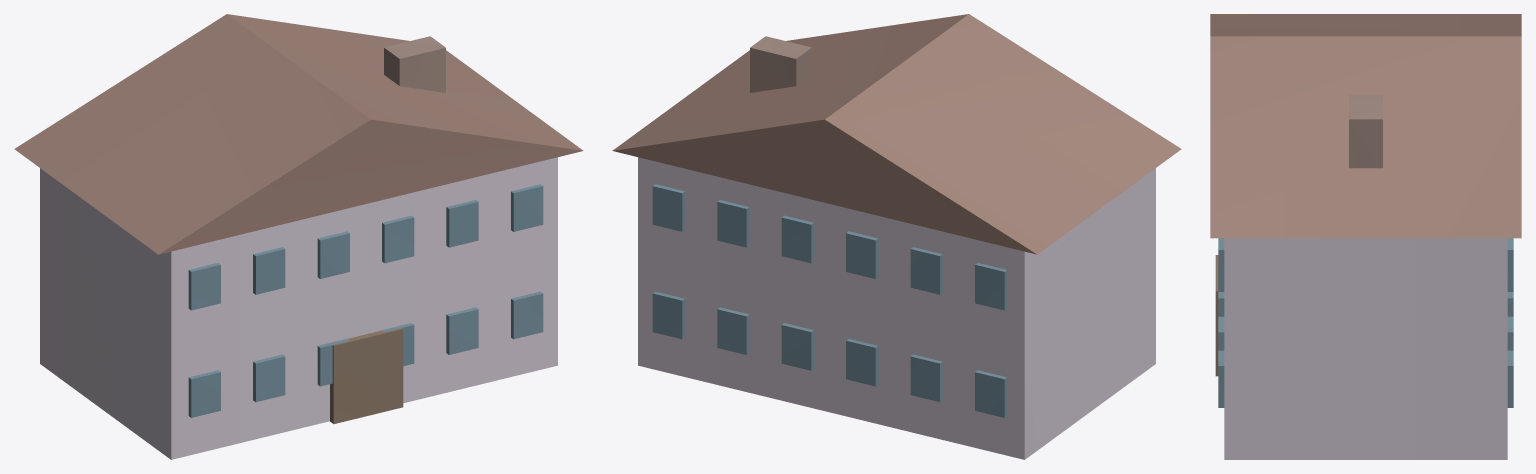
File: barn-01.glb
The picture shows the model from 3 angles, left to right: view 1: azimuth 30°, elevation 25°; view 2: azimuth 150°, elevation 25°; view 3: azimuth 270°, elevation 25°; orthographic projection. The views are drawn at different scales.
Visible parts, largest first — view 1: world; view 2: world; view 3: world.
Boxes of the visible parts, <box> form: world: <box>14,14,583,459</box>; world: <box>612,14,1181,459</box>; world: <box>1210,14,1521,459</box>.
Size of the model in its own units: 2.27 by 1.52 by 1.33.
